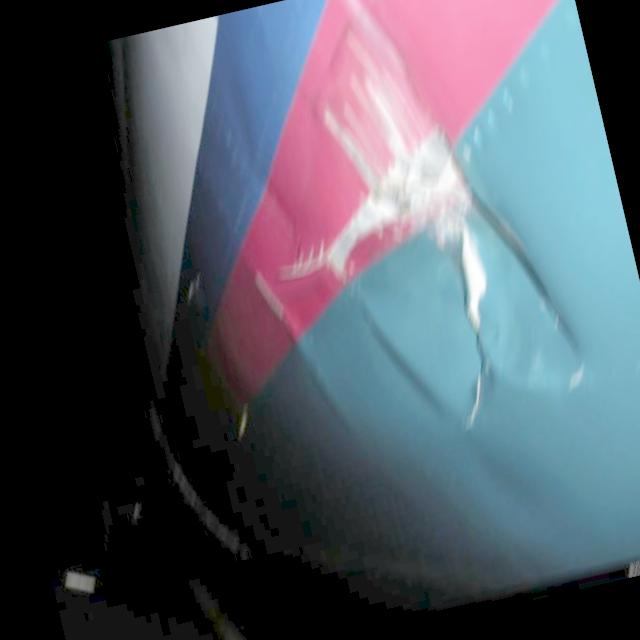crack: (425, 244, 507, 432)
